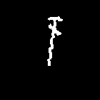double_crochet: (47, 17, 62, 65)
